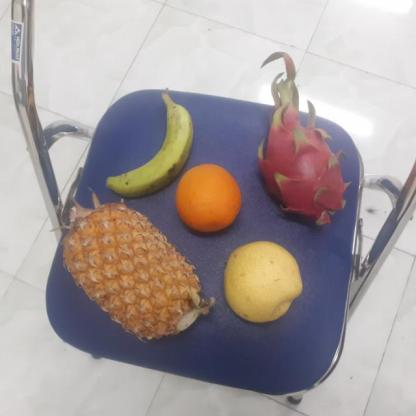banana: (90, 92, 194, 199)
orange: (173, 162, 242, 233)
pear: (219, 242, 304, 322)
pineapple: (57, 204, 206, 339)
pitaya: (254, 109, 348, 228)
